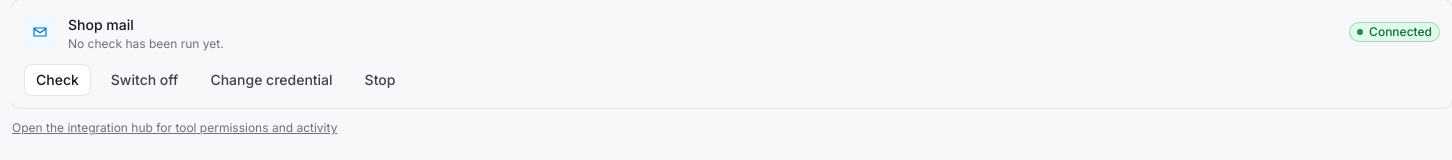
Test: the connection controls in Settings › runs a health check and shows what came back
Click the button "Check" at (57, 80), box [24,64,91,96]
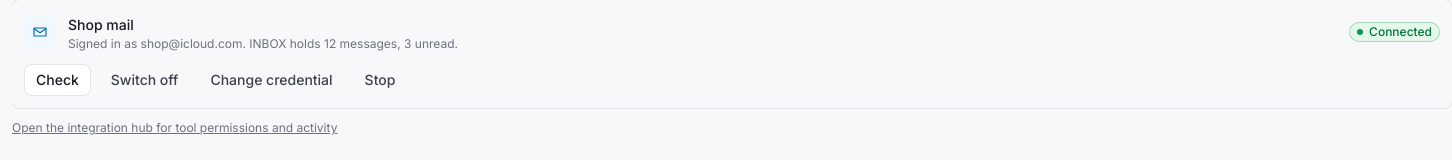
Now the text "INBOX holds 12 messages" is shown, box [68,36,458,51]
